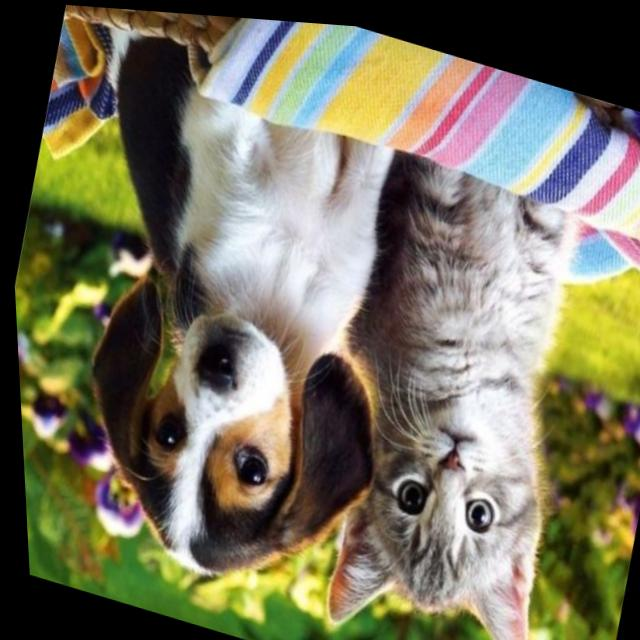Cat: (284, 140, 640, 640)
Dog: (2, 54, 412, 621)
